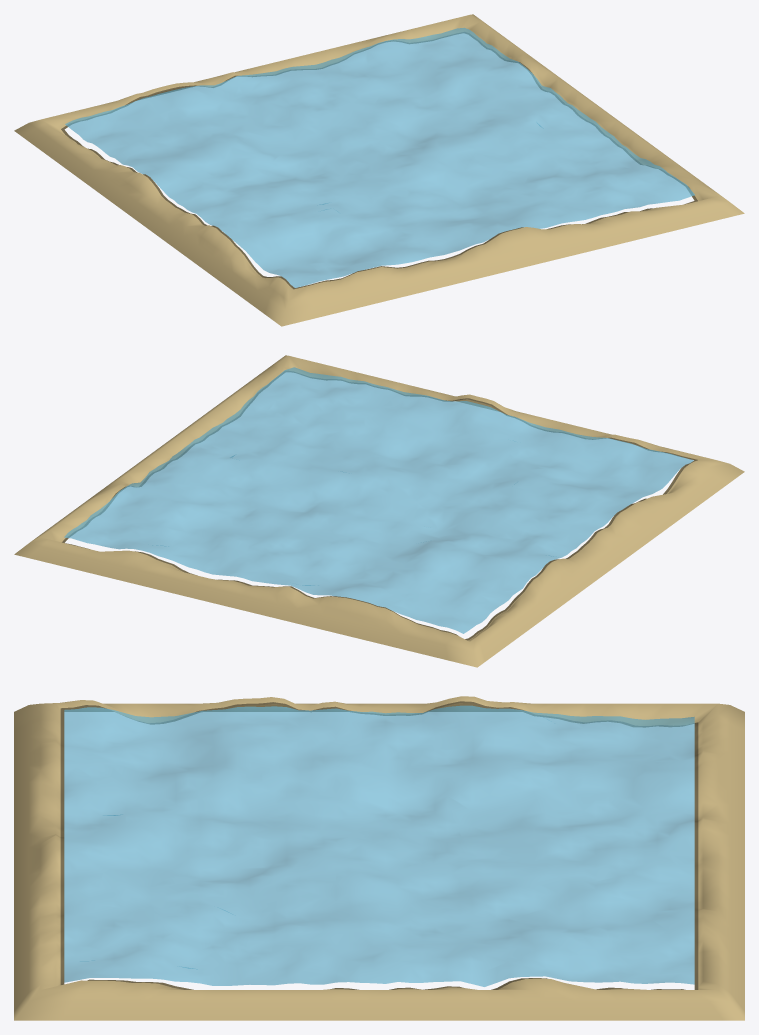
File: Updated, Square Water.fbx
3 views of the same model, one above another, from view 1: azimuth 30°, elevation 25°; view 2: azimuth 150°, elevation 25°; view 3: azimuth 270°, elevation 25° (orthographic). The views are drawn at different scales.
Parts seen in each view (by area): view 1: Plane, Plane.002; view 2: Plane, Plane.002; view 3: Plane, Plane.002.
Part boxes in pixels (x1,y1,x2,y2): Plane: [65, 27, 694, 287]; Plane.002: [14, 14, 744, 326]; Plane: [64, 367, 693, 633]; Plane.002: [14, 355, 744, 667]; Plane: [64, 705, 694, 986]; Plane.002: [14, 696, 744, 1020].
Size of the model in its own units: 4641 by 240 by 4641.
